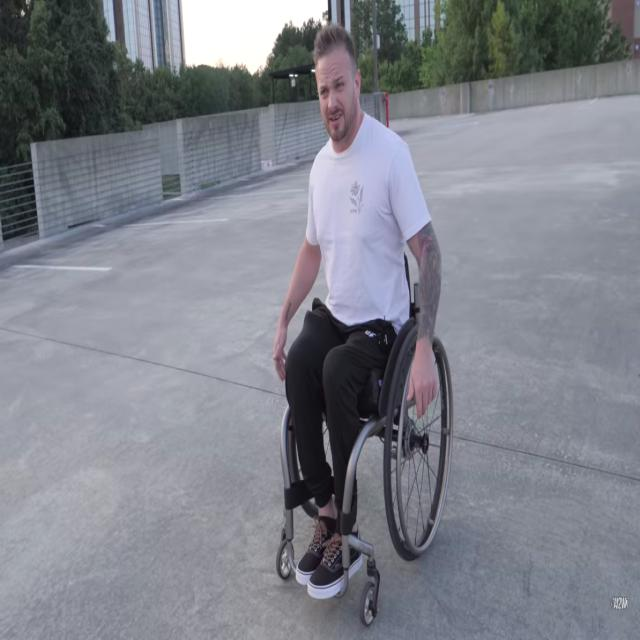wheelchairs: (278, 277, 449, 633)
